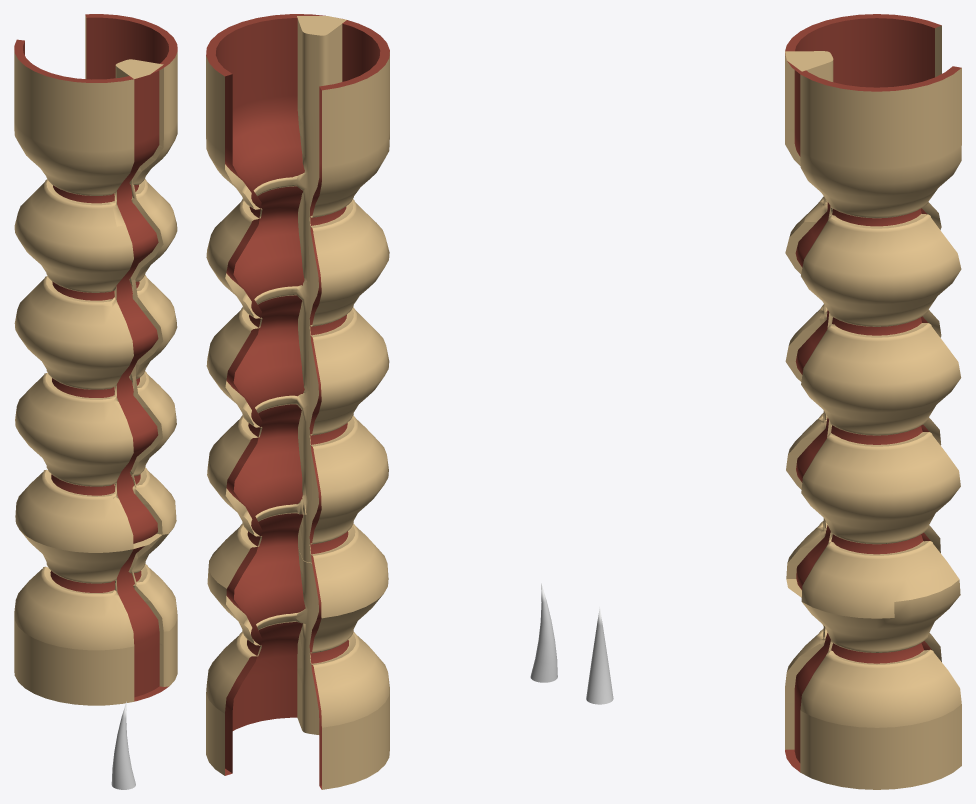
File: model gut coll.fbx
3 renders of one model, left to right at view 1: azimuth 30°, elevation 25°; view 2: azimuth 150°, elevation 25°; view 3: azimuth 270°, elevation 25°, orthographic. The views are drawn at different scales.
Visible parts, largest first — view 1: Hose001, Hose002, Cone001; view 2: Hose001, Hose002, Cone001; view 3: Hose001, Hose002, Cone001.
Boxes of the visible parts, <box> form: Hose001: <box>14,15,177,705</box>; Hose002: <box>14,14,177,701</box>; Cone001: <box>111,701,135,789</box>; Hose001: <box>206,16,389,789</box>; Hose002: <box>206,14,389,789</box>; Cone001: <box>530,583,557,682</box>; Hose001: <box>785,25,961,789</box>; Hose002: <box>785,14,961,772</box>; Cone001: <box>586,607,613,704</box>.
Bounding box in the file's own units: 68.38 × 230 × 112.
